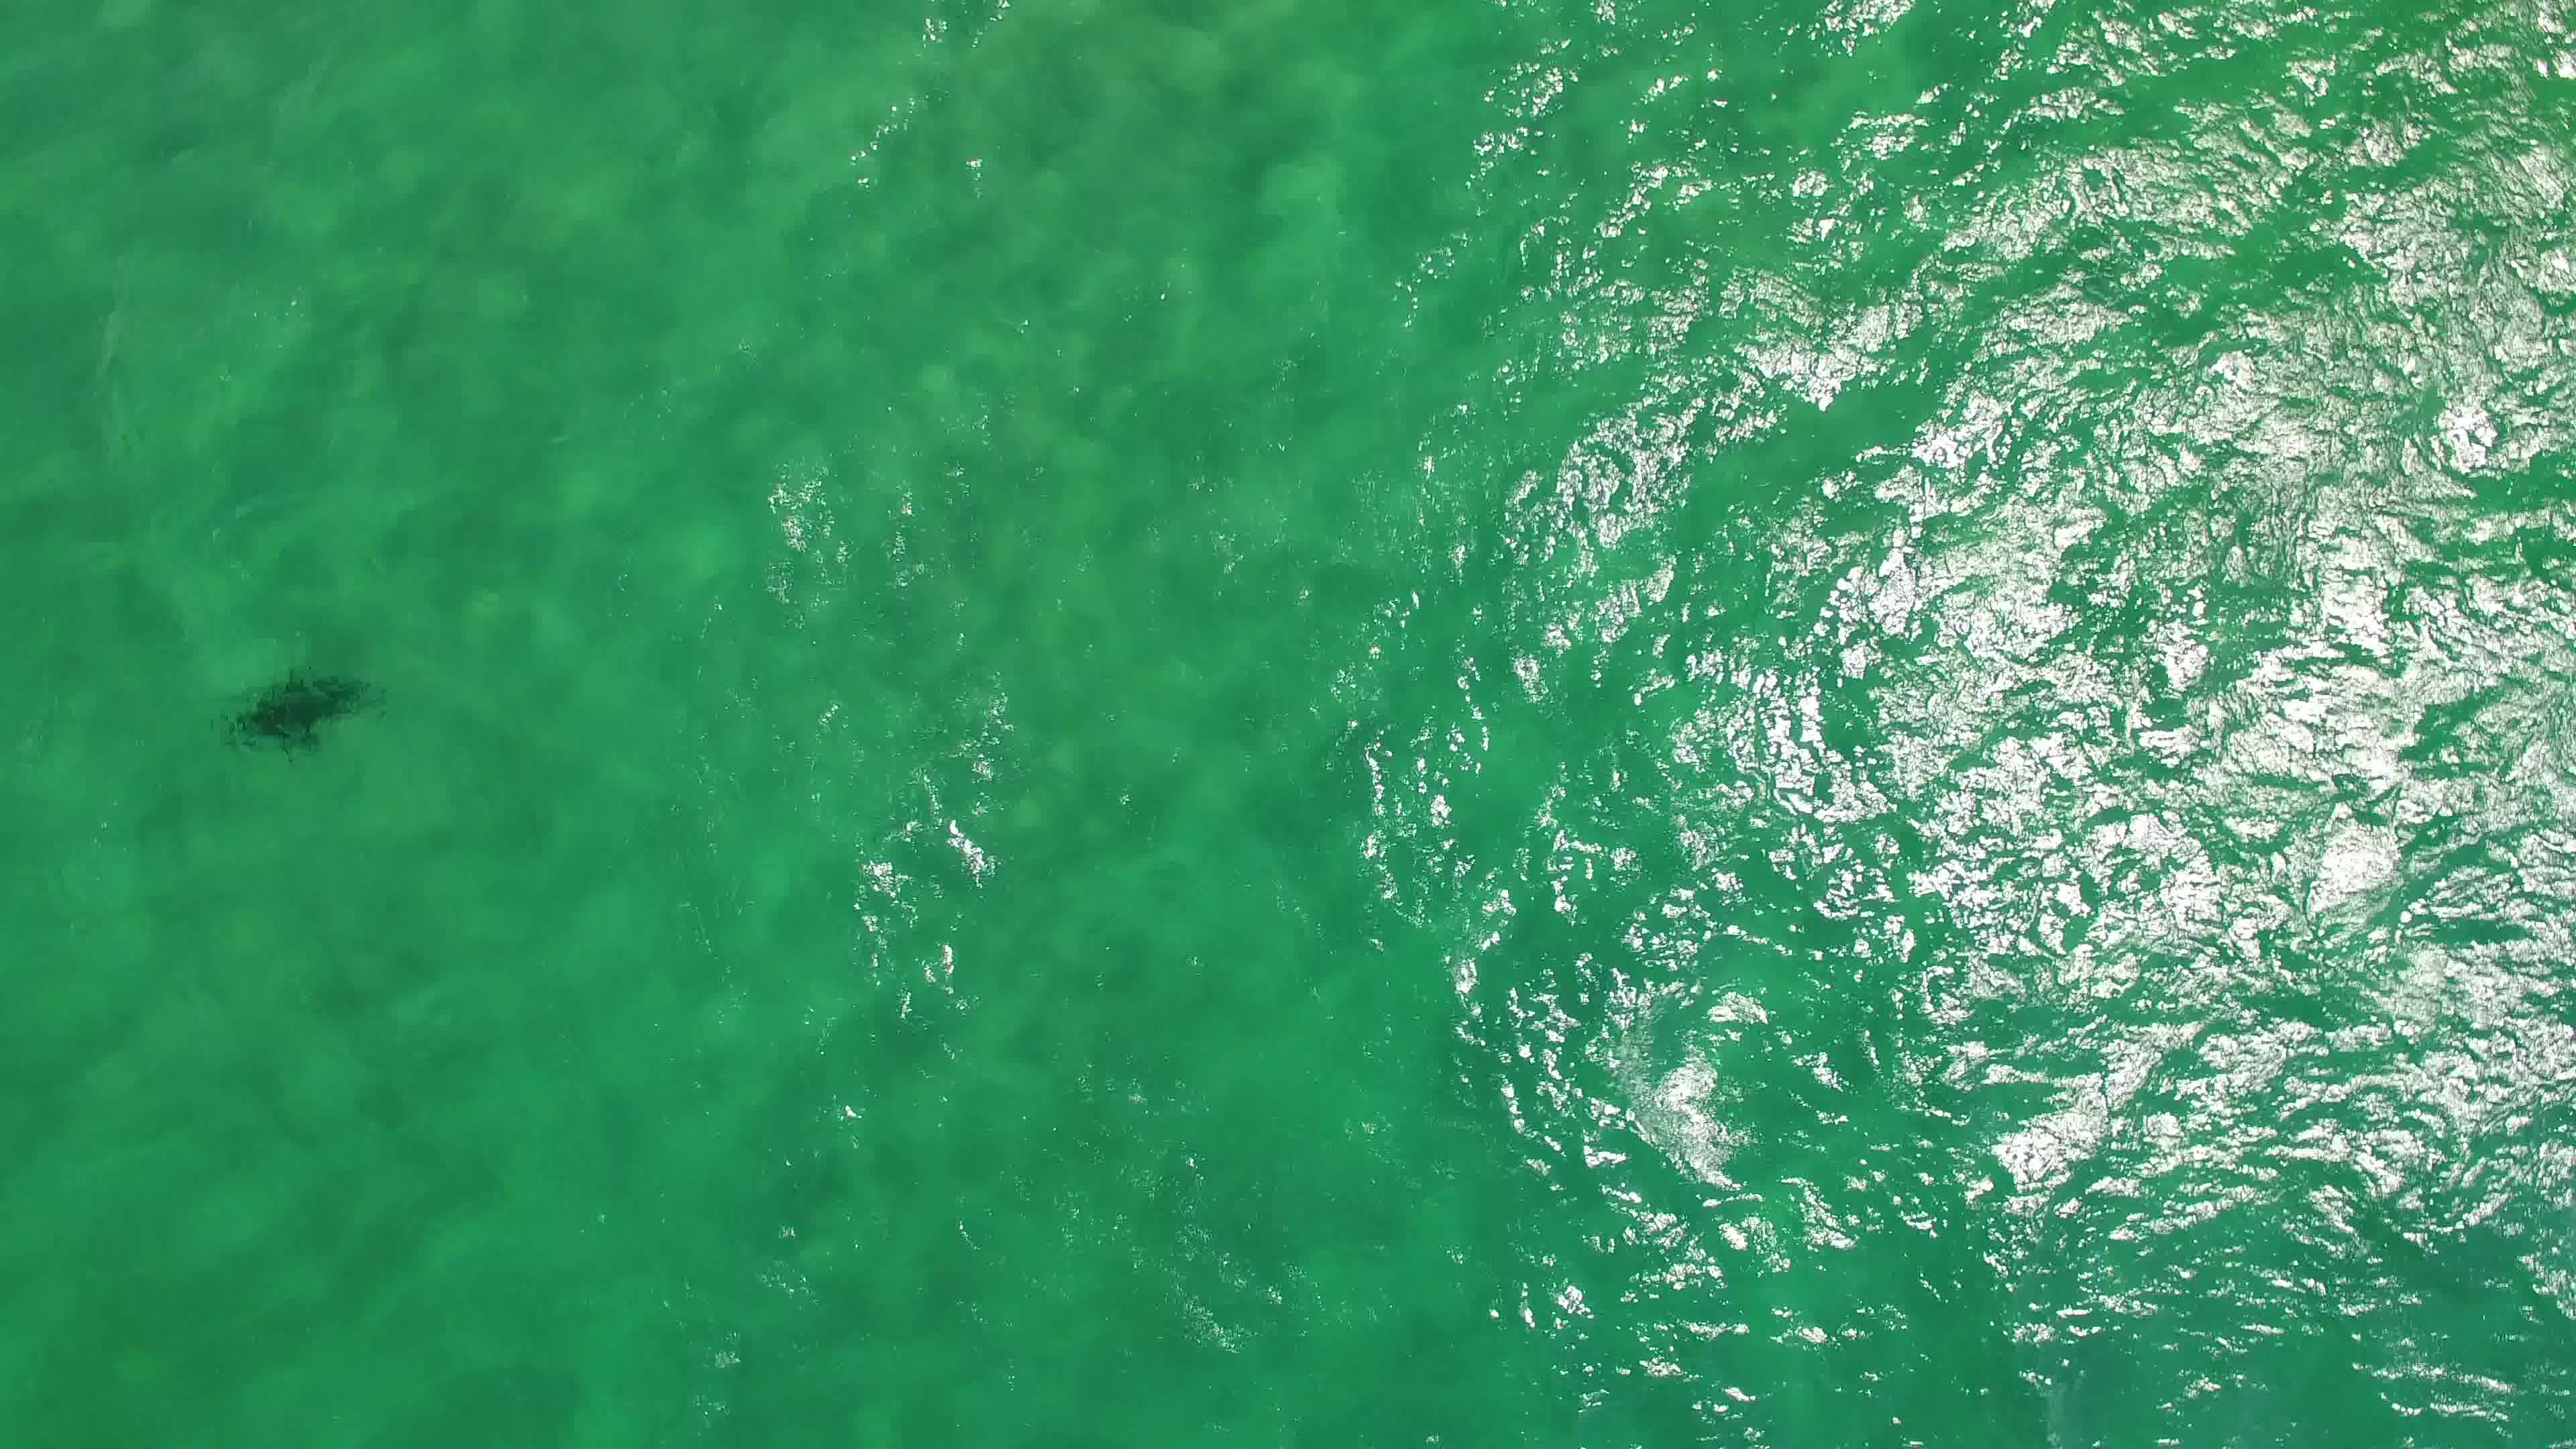shark: (218, 653, 384, 757)
